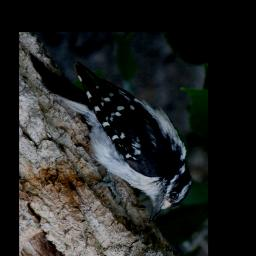Woodpecker: (26, 53, 196, 222)
